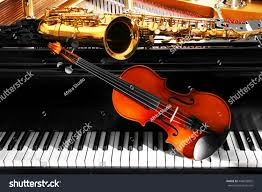Piano: (1, 105, 262, 177)
Saxophone: (30, 3, 262, 75)
Violin: (42, 35, 251, 158)
